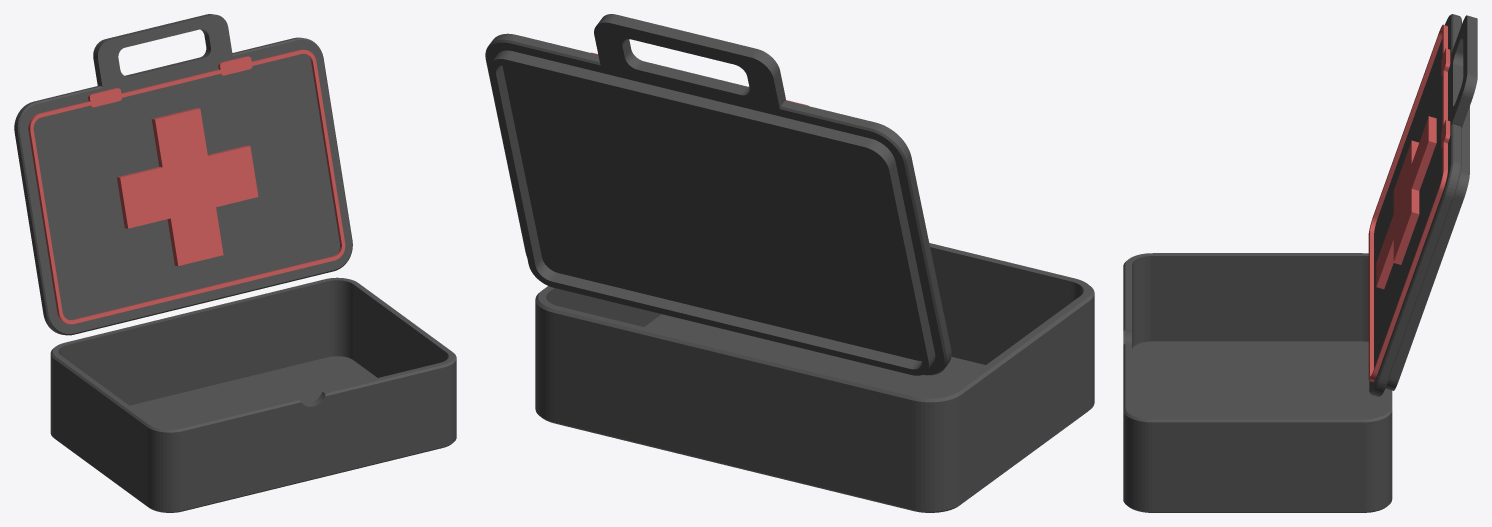
The model's file is medicina-aperto.glb.
3 renders of one model, left to right at view 1: azimuth 30°, elevation 25°; view 2: azimuth 150°, elevation 25°; view 3: azimuth 270°, elevation 25°, orthographic. The views are drawn at different scales.
Visible parts, largest first — view 1: 01_vaschetta, 02_coperchio_con_manico, 04_croce, 03_cornice_e_attacchi; view 2: 02_coperchio_con_manico, 01_vaschetta; view 3: 01_vaschetta, 02_coperchio_con_manico, 03_cornice_e_attacchi, 04_croce.
Part boxes in pixels (left/top/right/bottom): 01_vaschetta: left=50, top=277, right=456, bottom=512; 02_coperchio_con_manico: left=14, top=14, right=352, bottom=335; 04_croce: left=117, top=108, right=258, bottom=265; 03_cornice_e_attacchi: left=28, top=49, right=345, bottom=324; 02_coperchio_con_manico: left=485, top=14, right=951, bottom=375; 01_vaschetta: left=535, top=243, right=1094, bottom=512; 01_vaschetta: left=1123, top=253, right=1392, bottom=512; 02_coperchio_con_manico: left=1369, top=14, right=1477, bottom=396; 03_cornice_e_attacchi: left=1368, top=24, right=1450, bottom=381; 04_croce: left=1376, top=116, right=1436, bottom=289.
Bounding box in the file's own units: 0.108 × 0.1152 × 0.0962.
